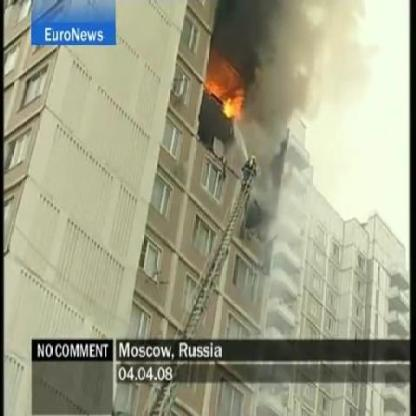fire: (220, 81, 247, 125)
